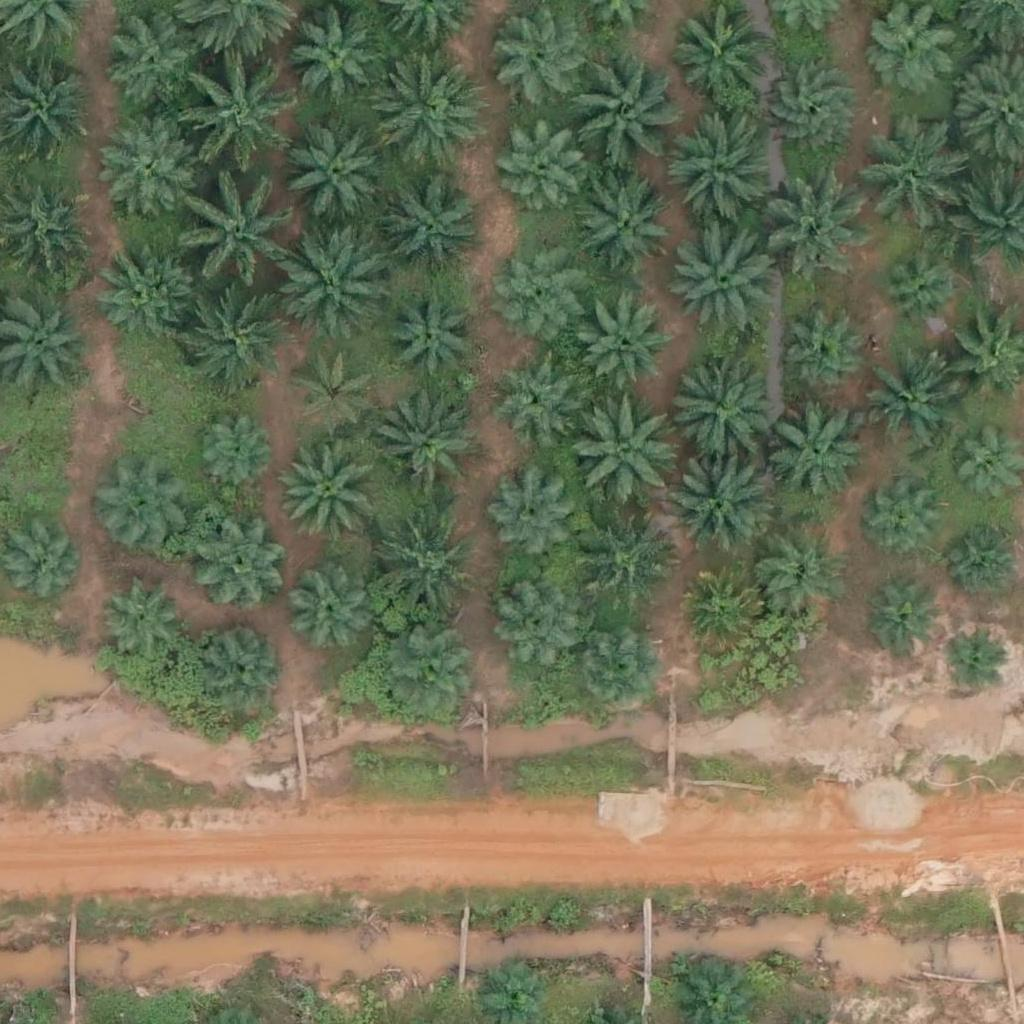Kelapa_Sawit: (661, 220, 774, 334), (666, 447, 779, 560), (658, 351, 771, 464), (371, 59, 484, 172), (281, 116, 394, 229), (664, 116, 776, 230), (566, 393, 678, 507), (758, 161, 870, 274), (562, 55, 674, 168), (366, 516, 478, 629), (279, 232, 391, 345), (182, 67, 294, 180), (182, 185, 294, 298), (177, 283, 289, 396), (855, 356, 955, 457), (855, 128, 955, 229), (765, 404, 865, 505), (668, 4, 768, 105), (571, 172, 671, 273), (573, 509, 673, 610), (492, 9, 592, 110), (375, 402, 475, 503), (288, 9, 388, 110), (279, 442, 379, 543), (90, 459, 190, 560), (105, 119, 205, 220), (92, 238, 192, 339), (760, 62, 860, 162), (384, 629, 484, 729), (188, 509, 288, 609), (109, 12, 209, 112), (382, 177, 481, 278), (673, 567, 761, 655), (876, 245, 964, 333), (583, 305, 671, 393), (485, 473, 573, 561), (199, 617, 287, 705), (496, 580, 583, 669), (294, 348, 381, 437), (781, 314, 868, 402), (758, 534, 845, 622), (574, 626, 661, 714), (486, 351, 573, 439), (495, 239, 582, 327), (498, 124, 585, 212), (389, 290, 476, 378), (193, 411, 280, 499), (291, 570, 378, 658), (99, 571, 186, 659), (947, 431, 1022, 507), (867, 486, 942, 561), (865, 586, 940, 661), (938, 627, 1001, 690)
